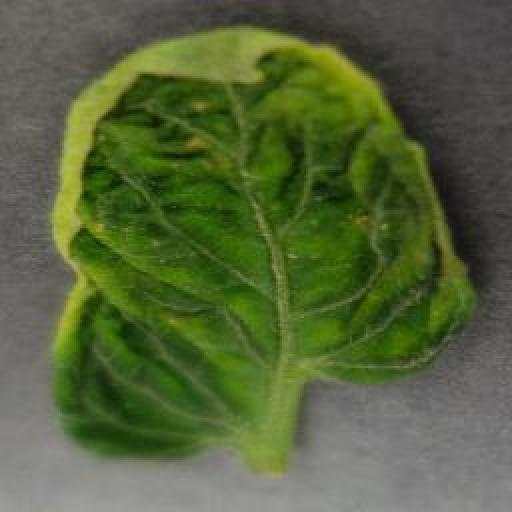disease_tomato: (45, 26, 475, 466)
